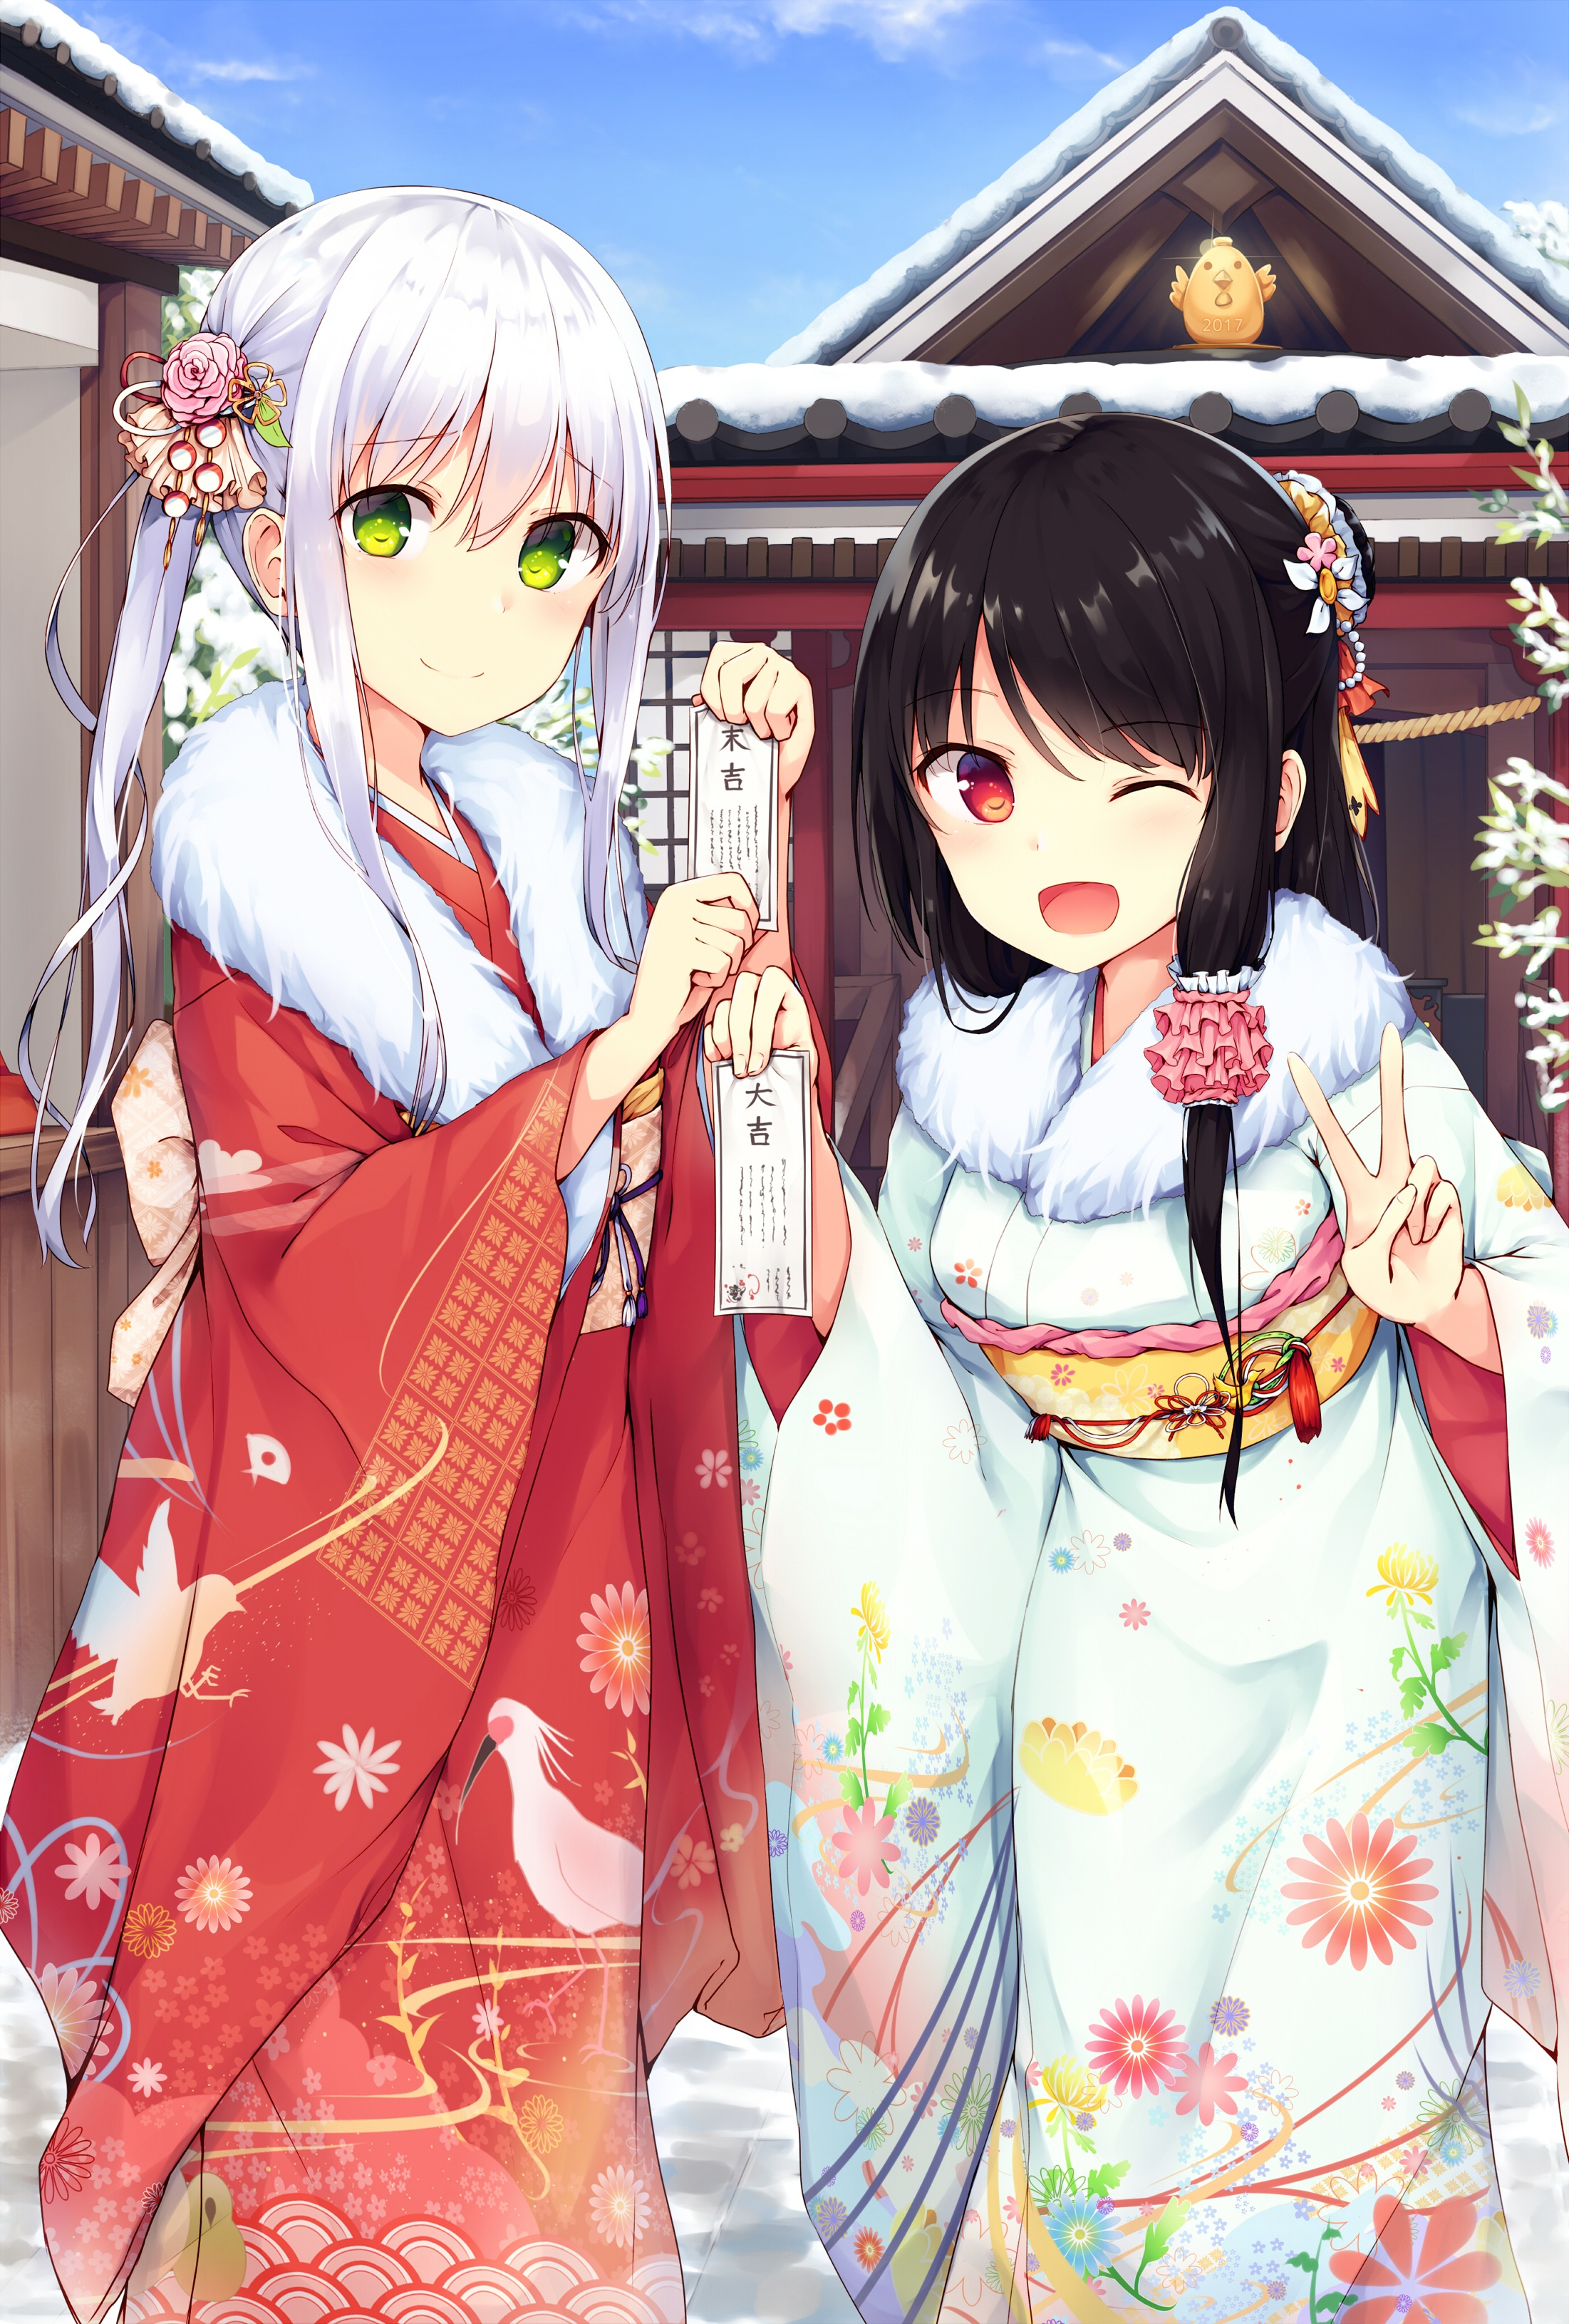纸片人正脸: (826, 403, 1396, 995), (160, 162, 698, 753)
